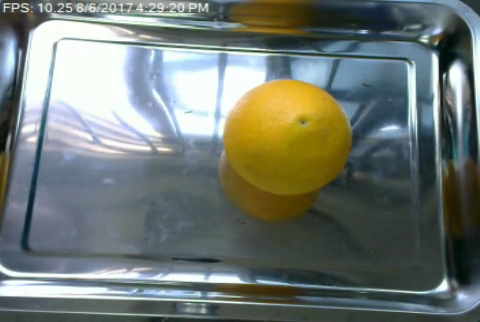Orange: (222, 79, 351, 194)
